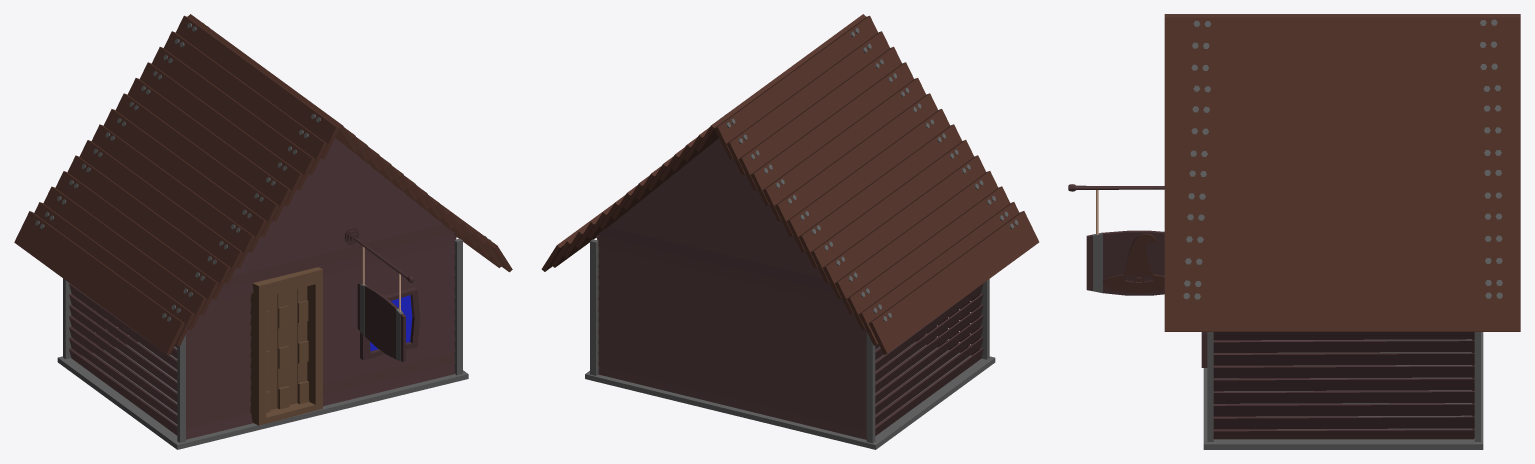
File: CasaChapeu.fbx
3 renders of one model, left to right at view 1: azimuth 30°, elevation 25°; view 2: azimuth 150°, elevation 25°; view 3: azimuth 270°, elevation 25°, orthographic. The views are drawn at different scales.
Visible parts, largest first — view 1: CasaChapeu, PortaChapeu; view 2: CasaChapeu; view 3: CasaChapeu.
Boxes of the visible parts, <box> form: CasaChapeu: <box>14,14,512,449</box>; PortaChapeu: <box>250,267,322,425</box>; CasaChapeu: <box>541,14,1039,449</box>; CasaChapeu: <box>1068,14,1520,449</box>.
Size of the model in its own units: 571 by 473 by 553.
